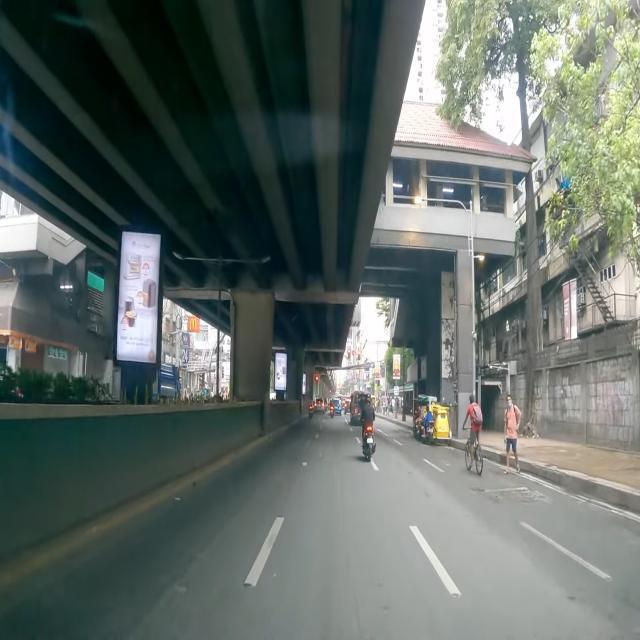bike: (463, 394, 484, 478)
car: (314, 396, 325, 414), (332, 398, 342, 416)
jeepney: (349, 390, 368, 426)
motorcycle: (308, 396, 314, 419), (330, 398, 335, 418)
tricycle: (418, 394, 453, 446)
